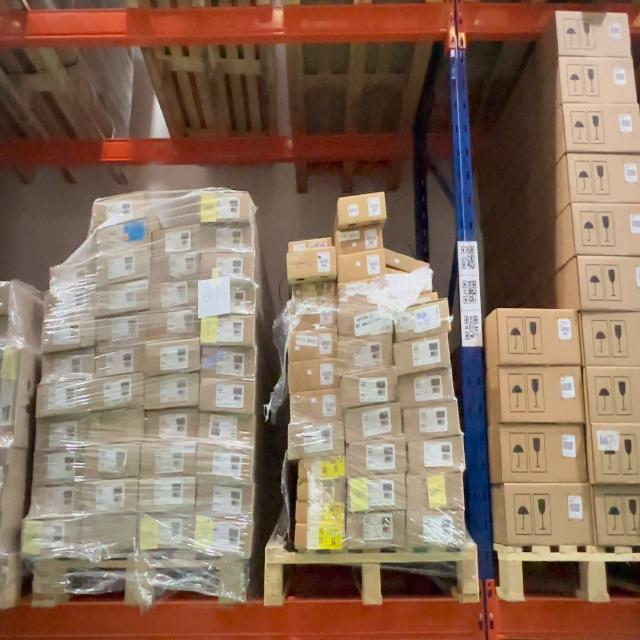box: (503, 484, 596, 545), (499, 426, 586, 483), (499, 368, 585, 423), (499, 309, 583, 365), (567, 154, 640, 203), (566, 104, 640, 152), (563, 56, 636, 104), (575, 204, 640, 254), (579, 258, 640, 310), (559, 14, 631, 58), (582, 313, 640, 364), (587, 368, 640, 423), (592, 425, 639, 482), (595, 486, 640, 544), (23, 521, 80, 560), (408, 473, 465, 511), (199, 482, 255, 520), (194, 520, 250, 558), (408, 512, 466, 548), (288, 422, 342, 460), (405, 402, 462, 438), (348, 475, 406, 510), (348, 514, 406, 549), (347, 442, 405, 477), (140, 478, 196, 514), (199, 448, 255, 484), (392, 300, 446, 337), (82, 479, 139, 514), (201, 281, 258, 316), (346, 406, 402, 441), (342, 371, 398, 406), (410, 437, 466, 472), (202, 379, 256, 415), (339, 336, 394, 371), (399, 371, 455, 405), (85, 443, 139, 478), (202, 346, 256, 381), (396, 337, 450, 372), (139, 516, 194, 550), (339, 304, 393, 338), (199, 414, 254, 447), (97, 249, 152, 282), (142, 444, 196, 477), (41, 319, 95, 352), (97, 281, 151, 314), (146, 375, 198, 409), (84, 518, 136, 552), (0, 347, 18, 445), (146, 340, 199, 373), (202, 315, 256, 347), (147, 411, 198, 444), (36, 417, 86, 450), (95, 377, 145, 410), (91, 412, 144, 443), (38, 382, 90, 413), (98, 195, 149, 226), (32, 484, 81, 516), (34, 451, 83, 483), (97, 222, 151, 251), (290, 392, 340, 423), (200, 191, 250, 222), (202, 252, 257, 280), (290, 360, 339, 391), (99, 314, 148, 345), (42, 353, 94, 382), (200, 223, 253, 251), (340, 193, 386, 225), (150, 280, 198, 310), (149, 310, 200, 338), (290, 330, 337, 360), (98, 347, 146, 376), (387, 275, 438, 302), (154, 226, 200, 255), (47, 289, 94, 317), (339, 252, 385, 280), (290, 249, 335, 277), (338, 280, 388, 305), (295, 458, 344, 483), (153, 253, 198, 280), (338, 227, 384, 253), (290, 281, 336, 306), (293, 528, 343, 550), (290, 308, 336, 331), (384, 251, 432, 273), (52, 263, 94, 288), (296, 481, 342, 503), (297, 504, 343, 526), (290, 238, 332, 252), (0, 282, 11, 312)
